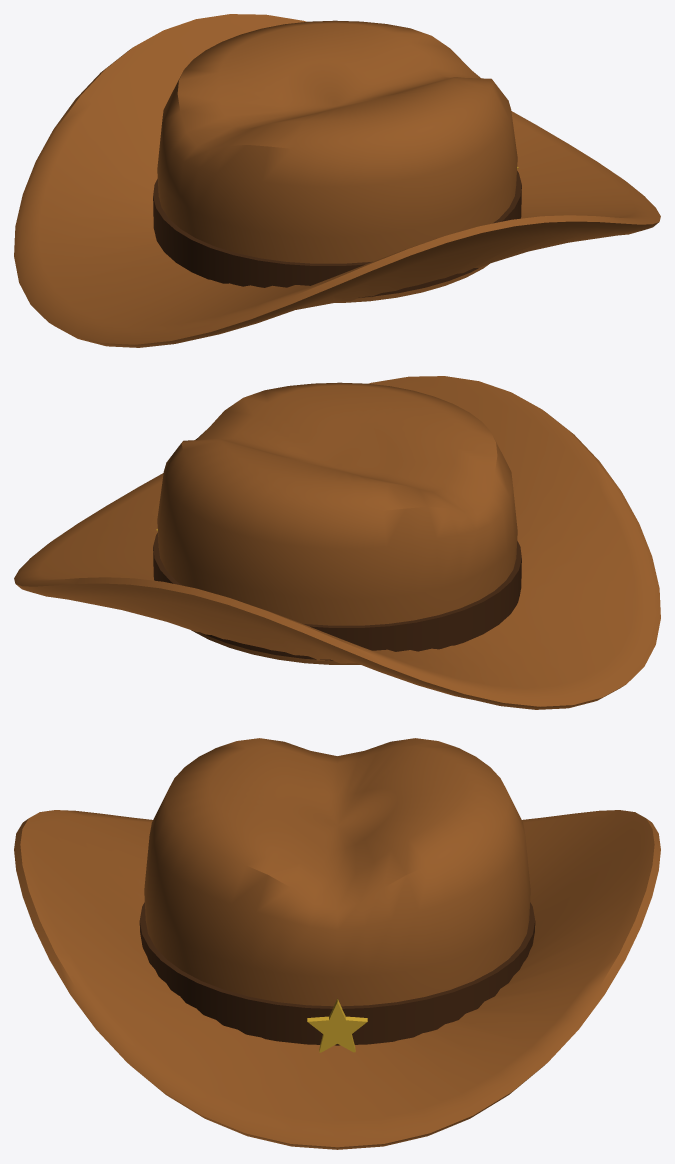
Rendered from hat_cowboy.glb.
The picture shows the model from 3 angles, top to bottom: view 1: azimuth 30°, elevation 25°; view 2: azimuth 150°, elevation 25°; view 3: azimuth 270°, elevation 25°; orthographic projection. The views are drawn at different scales.
Parts seen in each view (by area): view 1: hat_cowboy; view 2: hat_cowboy; view 3: hat_cowboy.
Boxes of the visible parts, <box> form: hat_cowboy: <box>14,14,660,347</box>; hat_cowboy: <box>14,376,660,709</box>; hat_cowboy: <box>14,738,660,1149</box>.
Size of the model in its own units: 0.9942 by 0.3067 by 0.8604.
